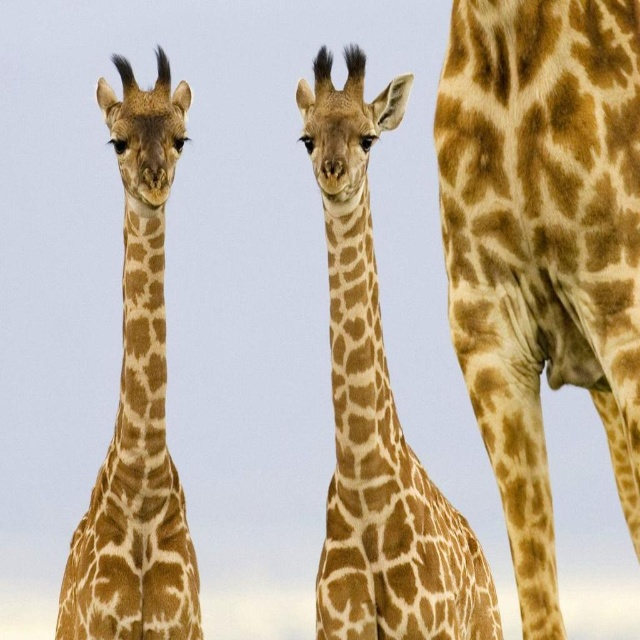Giraffe: (433, 0, 640, 639), (289, 47, 500, 639), (51, 45, 205, 639)
